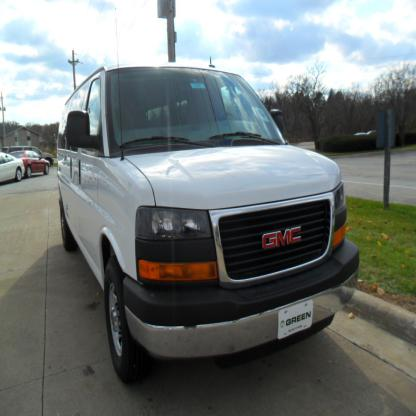Vehicle: (55, 58, 361, 388)
